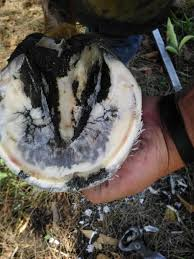horsesole: (1, 40, 143, 193)
